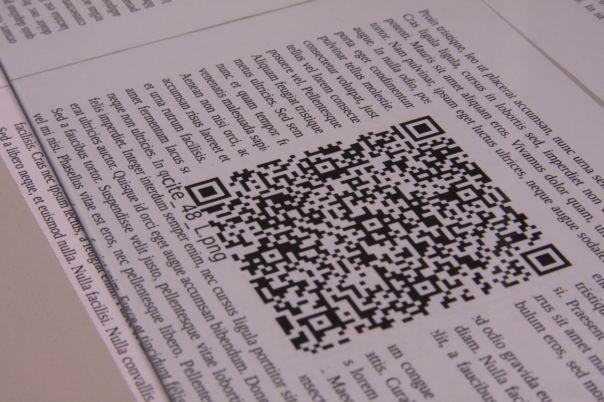Finder pattern: (520, 241, 576, 279), (183, 174, 232, 208), (399, 114, 446, 141)
